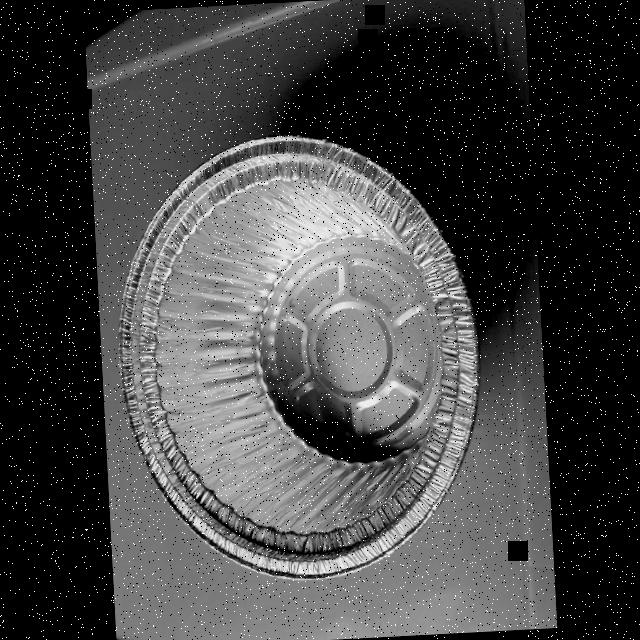plastic_box: (106, 128, 488, 590)
